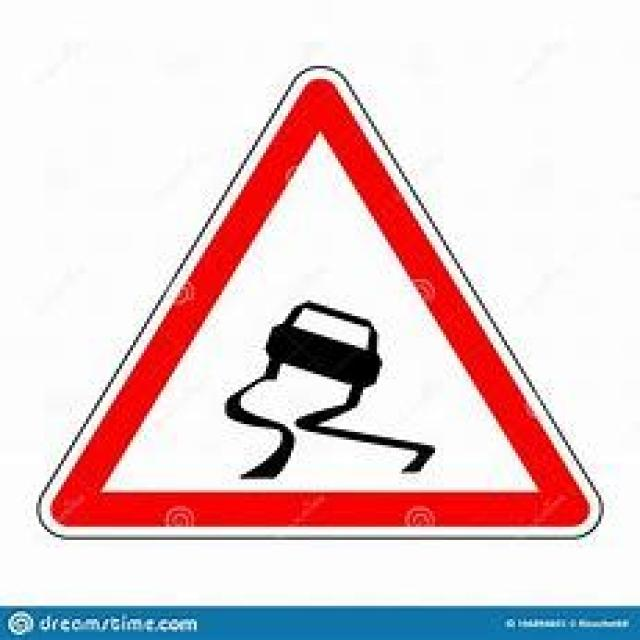children: (33, 61, 601, 534)
